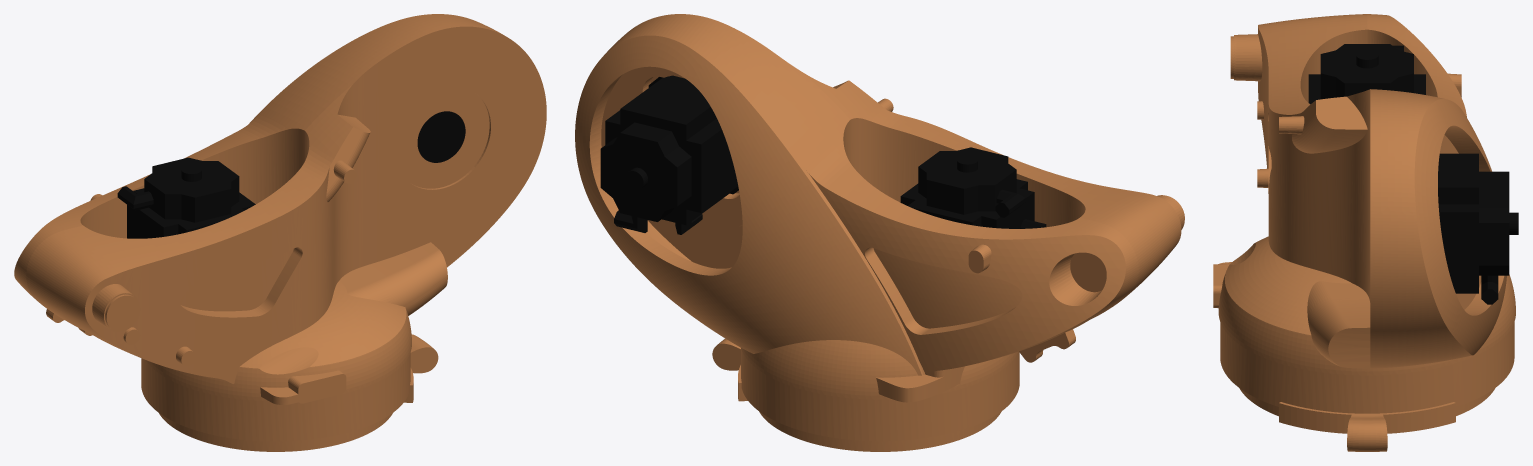
3 views of the same model, side by side, from view 1: azimuth 30°, elevation 25°; view 2: azimuth 150°, elevation 25°; view 3: azimuth 270°, elevation 25° (orthographic). The views are drawn at different scales.
Visible parts, largest first — view 1: Link_1, Link_1_Motor1, Link_1_Motor2; view 2: Link_1, Link_1_Motor2, Link_1_Motor1; view 3: Link_1, Link_1_Motor2, Link_1_Motor1.
Part boxes in pixels (x1,y1,x2,y2): Link_1: [14, 14, 546, 451]; Link_1_Motor1: [117, 157, 255, 238]; Link_1_Motor2: [417, 111, 465, 162]; Link_1: [575, 14, 1184, 451]; Link_1_Motor2: [600, 75, 738, 234]; Link_1_Motor1: [900, 147, 1046, 228]; Link_1: [1213, 14, 1515, 451]; Link_1_Motor2: [1438, 153, 1518, 304]; Link_1_Motor1: [1308, 44, 1425, 104].
Size of the model in its own units: 1.08 by 0.5035 by 0.6752.
